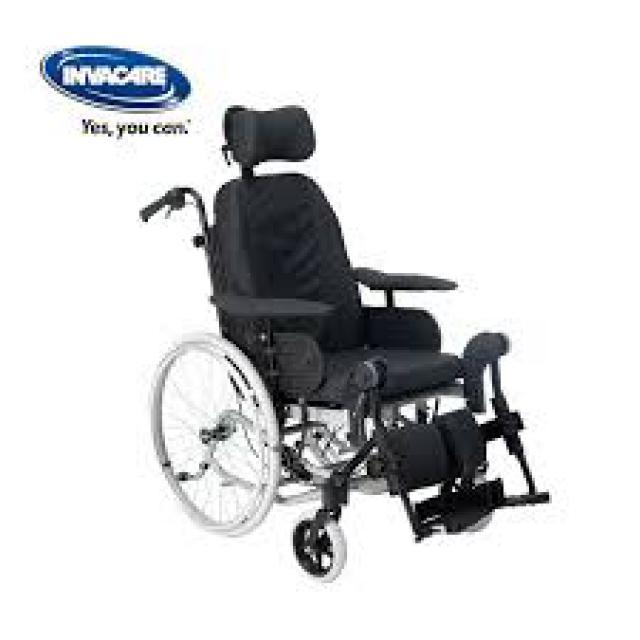wheelchair: (122, 85, 560, 583)
